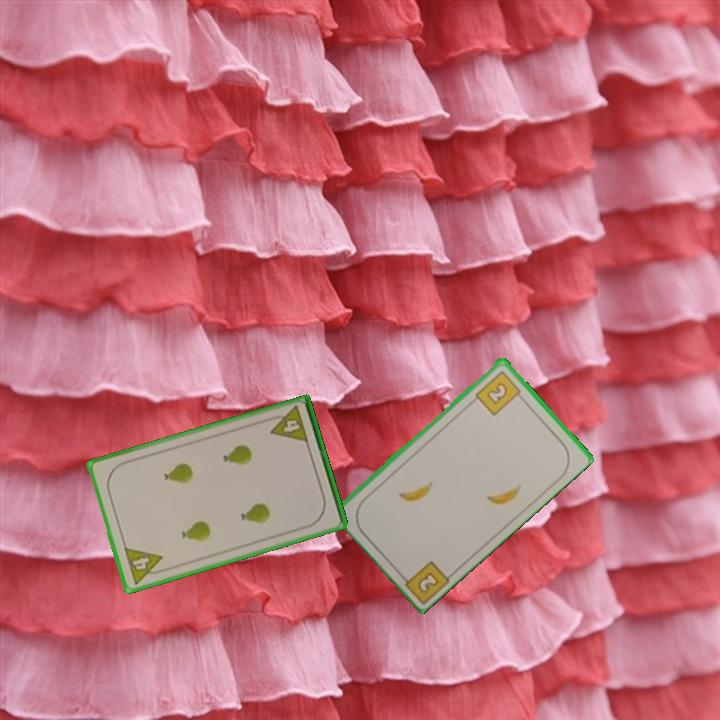2b: (395, 557, 453, 605), (472, 367, 526, 418)
4p: (120, 544, 169, 587), (264, 402, 311, 446)
